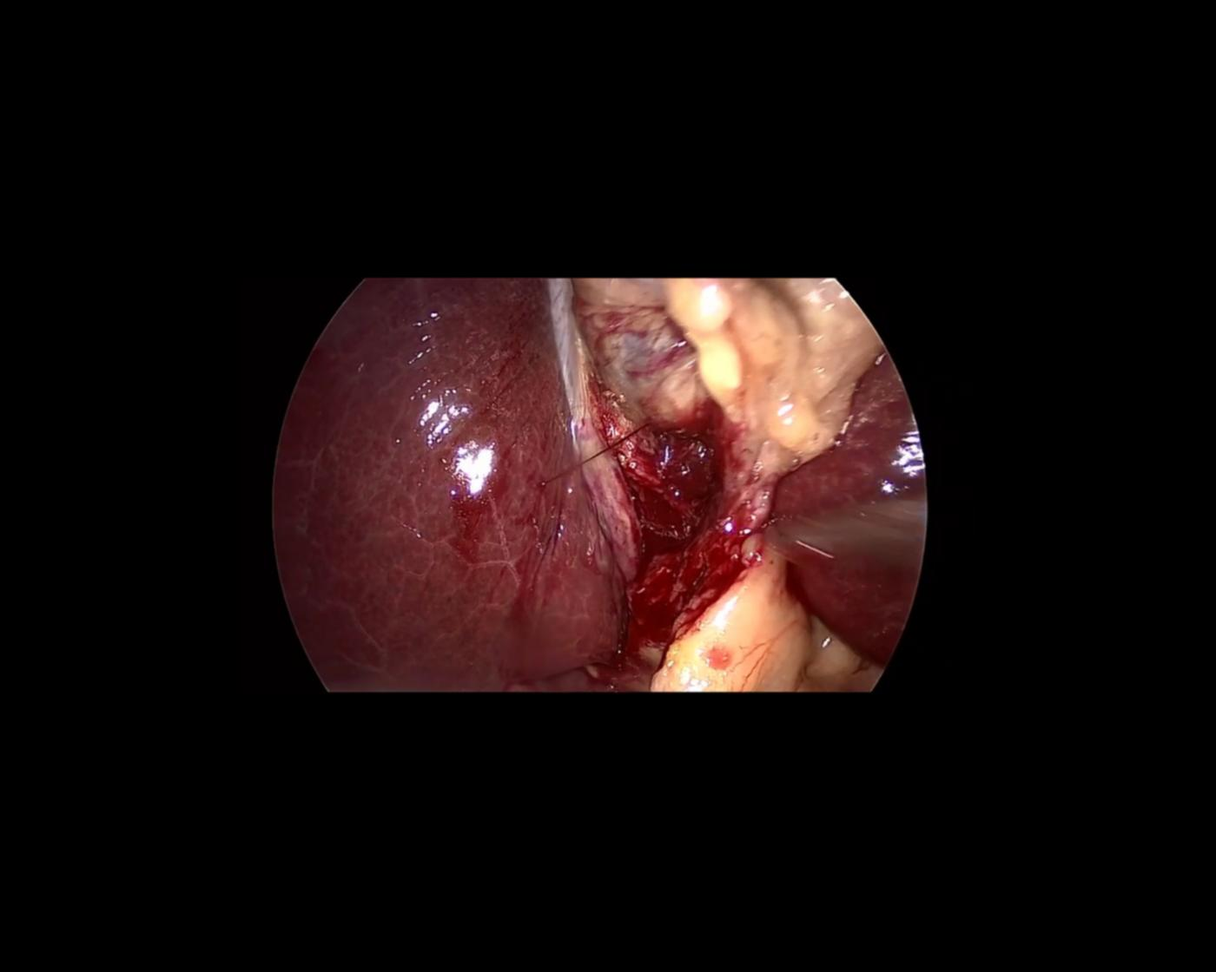Gallbladder: (573, 280, 886, 460)
Liver: (216, 239, 642, 742), (770, 359, 927, 665)
